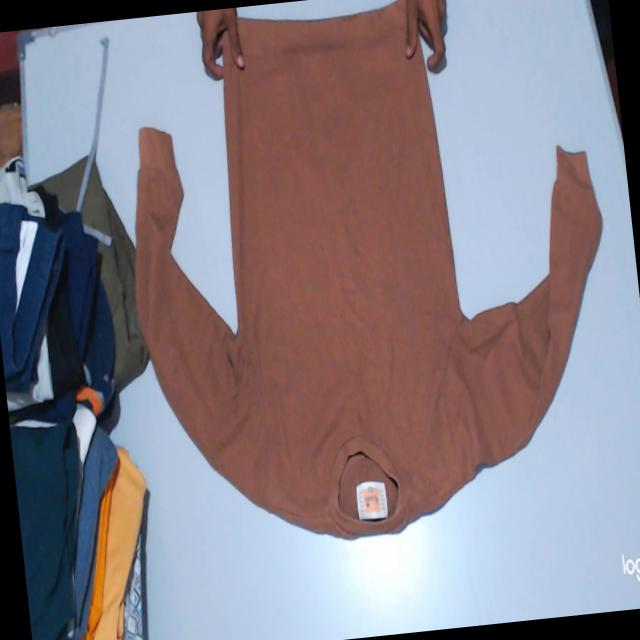new-garment: (136, 0, 601, 537)
